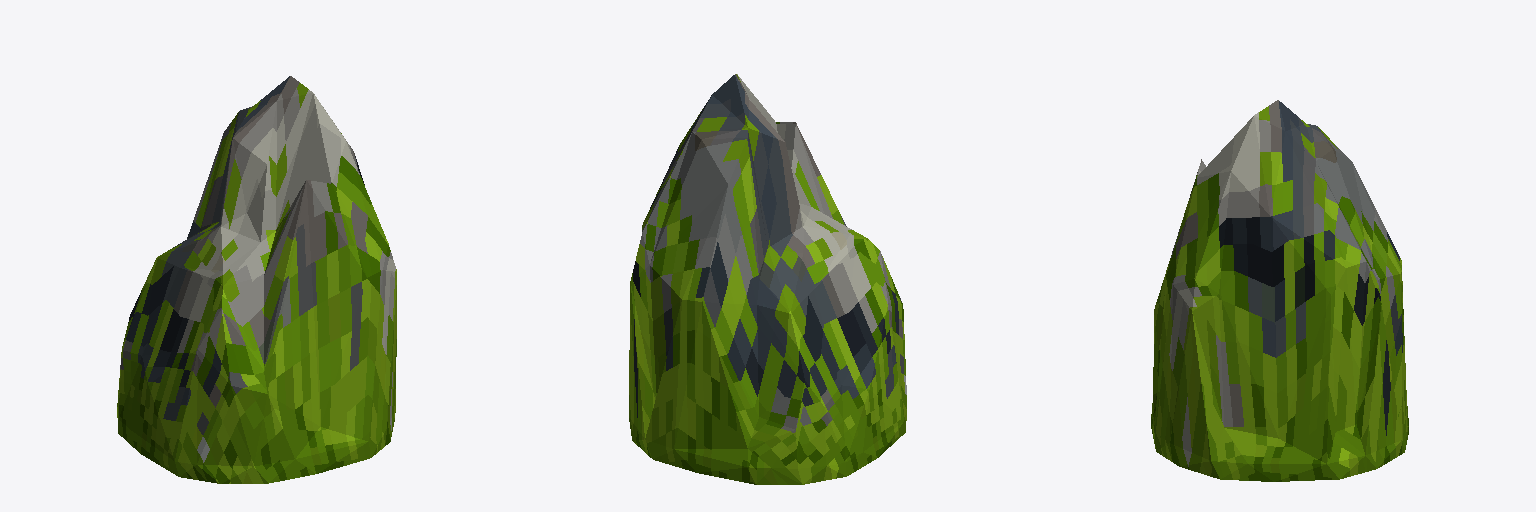
3 renders of one model, left to right at view 1: azimuth 30°, elevation 25°; view 2: azimuth 150°, elevation 25°; view 3: azimuth 270°, elevation 25°, orthographic.
Parts seen in each view (by area): view 1: Cube; view 2: Cube; view 3: Cube.
Part boxes in pixels (x1,y1,x2,y2): Cube: (117, 76, 396, 483); Cube: (629, 74, 906, 484); Cube: (1151, 100, 1408, 481).
Bounding box in the file's own units: 0.962 × 1.41 × 0.9602.
Materials: 1 (1 with a texture image).